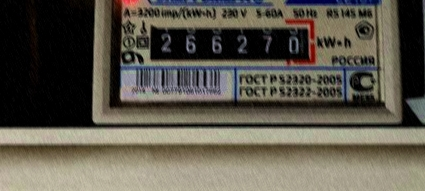0: (283, 33, 297, 53)
2: (156, 31, 169, 52), (233, 33, 246, 53)
6: (181, 32, 193, 53), (207, 33, 220, 52)
7: (259, 33, 269, 52)
screen: (135, 14, 318, 69)
